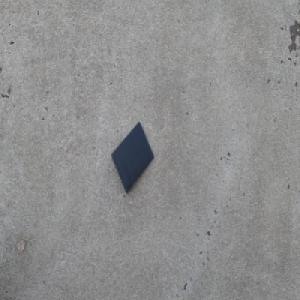PlasticPart: (110, 120, 154, 194)
